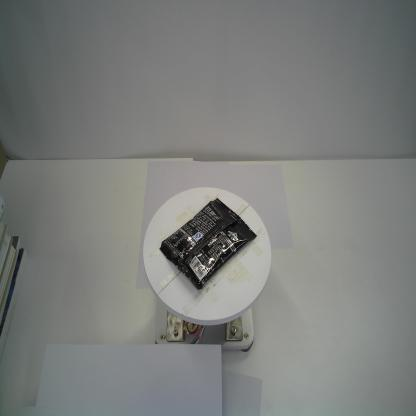Instant Drink: (158, 197, 258, 291)
